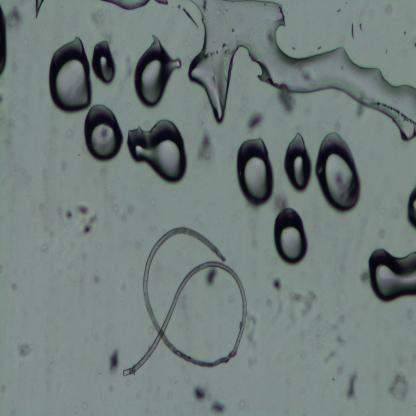Air bubble: (127, 120, 188, 184), (315, 130, 361, 213), (134, 34, 182, 111), (46, 35, 92, 115), (367, 247, 416, 302), (238, 137, 274, 207), (84, 101, 125, 162), (280, 130, 313, 192), (275, 206, 309, 266), (91, 37, 117, 87), (0, 2, 10, 73), (104, 0, 152, 11), (406, 188, 416, 229), (34, 0, 44, 18), (155, 0, 170, 8)
Background material: (186, 0, 416, 142), (266, 278, 316, 317), (387, 372, 410, 402), (196, 132, 214, 164), (278, 87, 297, 114), (107, 346, 122, 378), (248, 312, 261, 348), (6, 5, 23, 30), (247, 108, 264, 133), (82, 214, 99, 237), (346, 371, 359, 401), (18, 338, 34, 360), (193, 382, 207, 402), (210, 398, 228, 411), (78, 204, 90, 217), (356, 100, 364, 119), (64, 208, 74, 222)
Microfibre: (122, 226, 247, 380)
